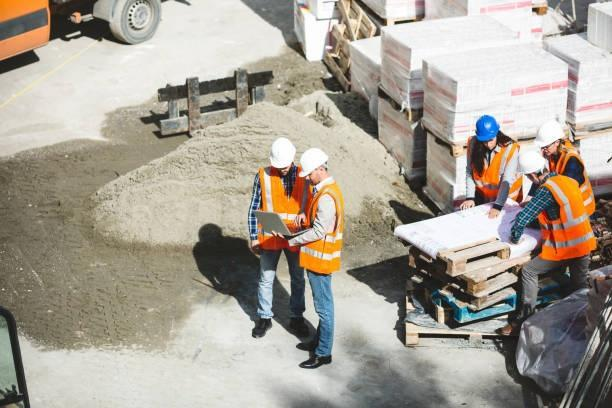helmet: (534, 116, 573, 156), (468, 115, 505, 151), (264, 139, 295, 173), (298, 149, 329, 180)
person: (296, 144, 348, 369), (512, 153, 599, 284), (248, 136, 305, 334), (463, 112, 522, 215)
vest: (538, 172, 595, 264), (302, 180, 347, 278), (258, 168, 304, 224), (473, 156, 509, 203)
